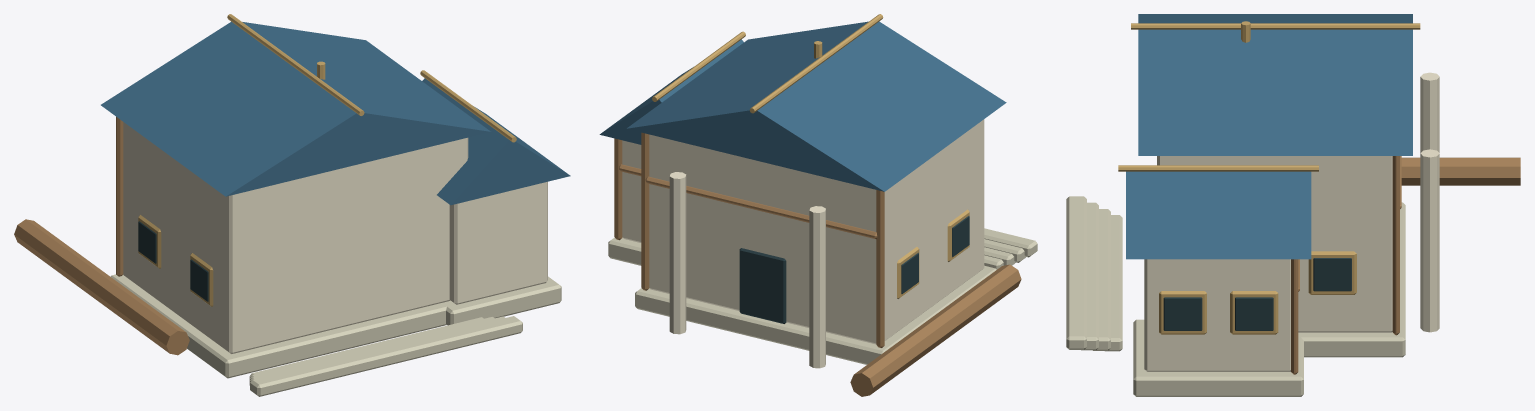
The model's file is level_26.glb.
3 renders of one model, left to right at view 1: azimuth 30°, elevation 25°; view 2: azimuth 150°, elevation 25°; view 3: azimuth 270°, elevation 25°, orthographic. The views are drawn at different scales.
Parts seen in each view (by area): view 1: timber_yard — level 26; view 2: timber_yard — level 26; view 3: timber_yard — level 26.
Part boxes in pixels (x1,y1,x2,y2): timber_yard — level 26: [14, 14, 570, 396]; timber_yard — level 26: [599, 14, 1037, 396]; timber_yard — level 26: [1066, 14, 1520, 396].
Size of the model in its own units: 6.43 by 4.06 by 6.12.
